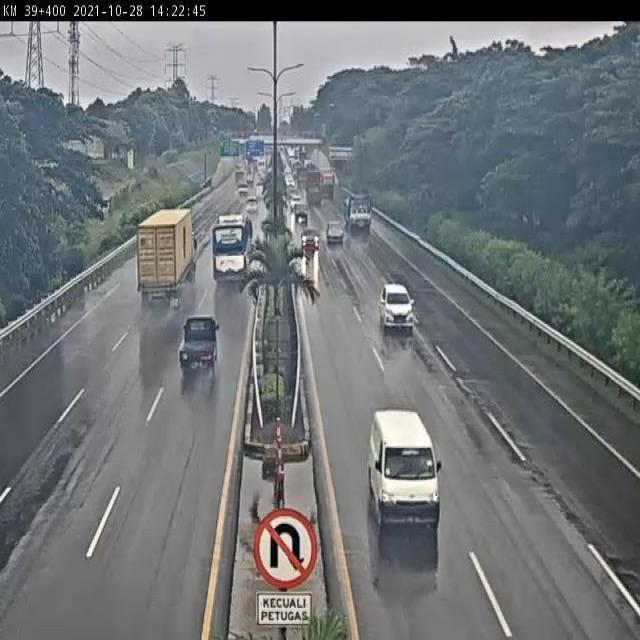bus-l-: (211, 214, 255, 290)
car: (179, 313, 222, 376)
truck-xl-: (136, 206, 199, 306)
